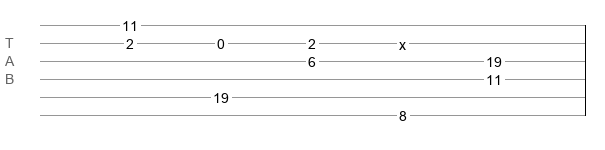0: (217, 36, 225, 46)
11: (122, 18, 138, 28), (486, 72, 502, 82)
19: (213, 90, 229, 100), (486, 54, 502, 64)
2: (126, 36, 134, 46), (308, 36, 316, 46)
6: (308, 54, 316, 64)
8: (399, 108, 407, 118)
x: (399, 37, 406, 45)
